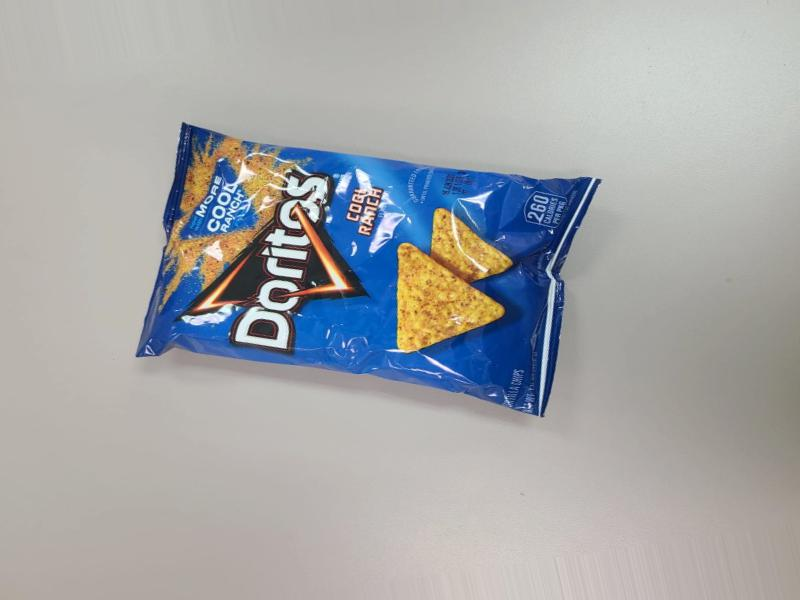doritos: (104, 140, 603, 414)
